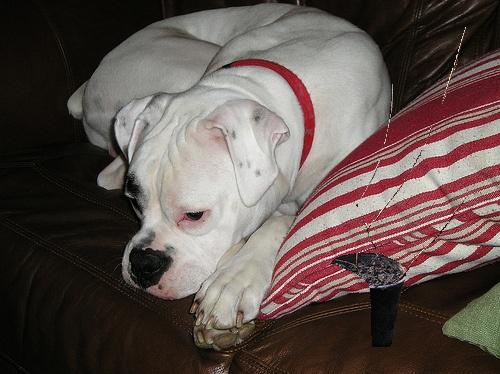tampered: (331, 28, 466, 347)
